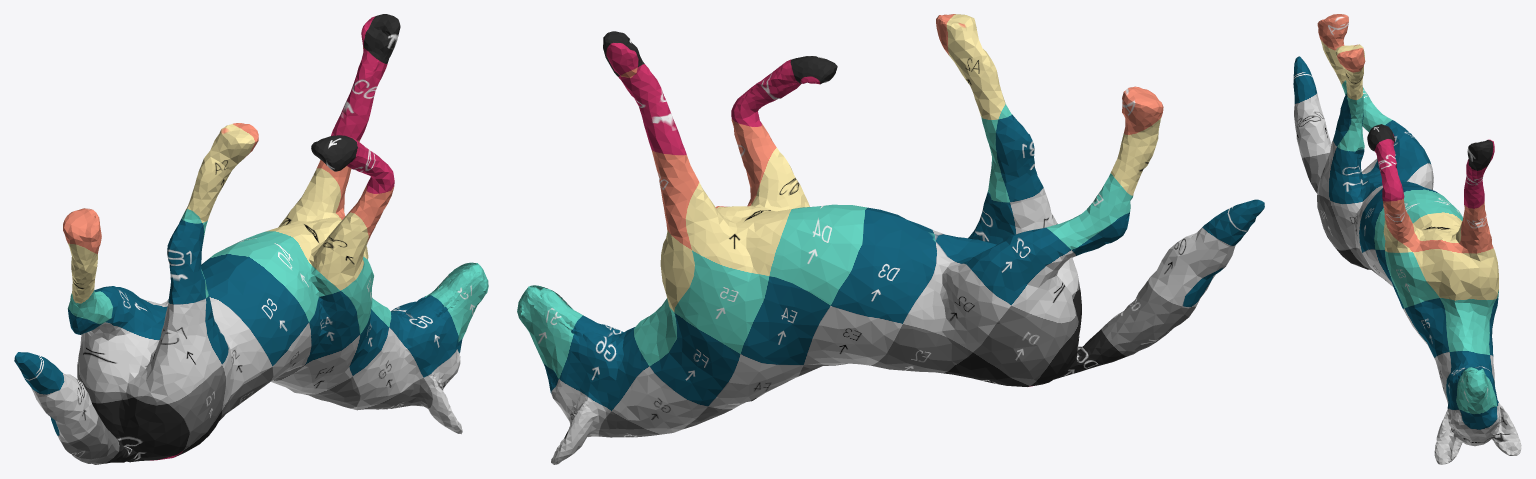
File: horse_08-horse_07.obj
3 views of the same model, side by side, from view 1: azimuth 30°, elevation 25°; view 2: azimuth 150°, elevation 25°; view 3: azimuth 270°, elevation 25° (orthographic). The views are drawn at different scales.
Parts seen in each view (by area): view 1: horse_08-horse_07_export; view 2: horse_08-horse_07_export; view 3: horse_08-horse_07_export.
Part boxes in pixels (left/top/right/bottom): horse_08-horse_07_export: left=14, top=14, right=488, bottom=464; horse_08-horse_07_export: left=517, top=14, right=1264, bottom=464; horse_08-horse_07_export: left=1293, top=14, right=1521, bottom=464.
Size of the model in its own units: 1.11 by 0.7505 by 0.4933.
